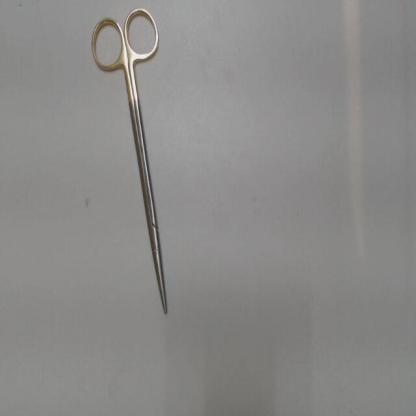7 Metzenbaum Scissors: (86, 3, 171, 320)
